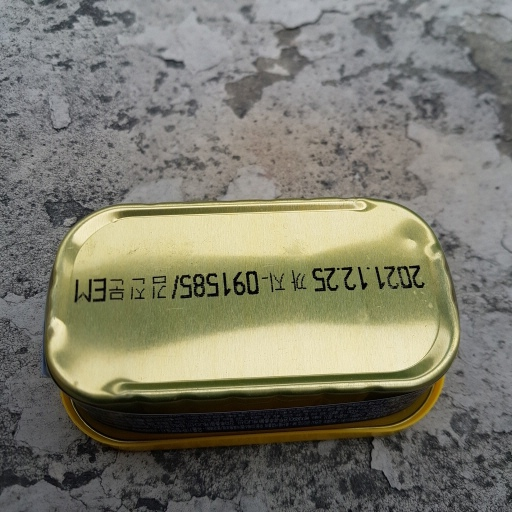Metal_2: (37, 203, 460, 448)
